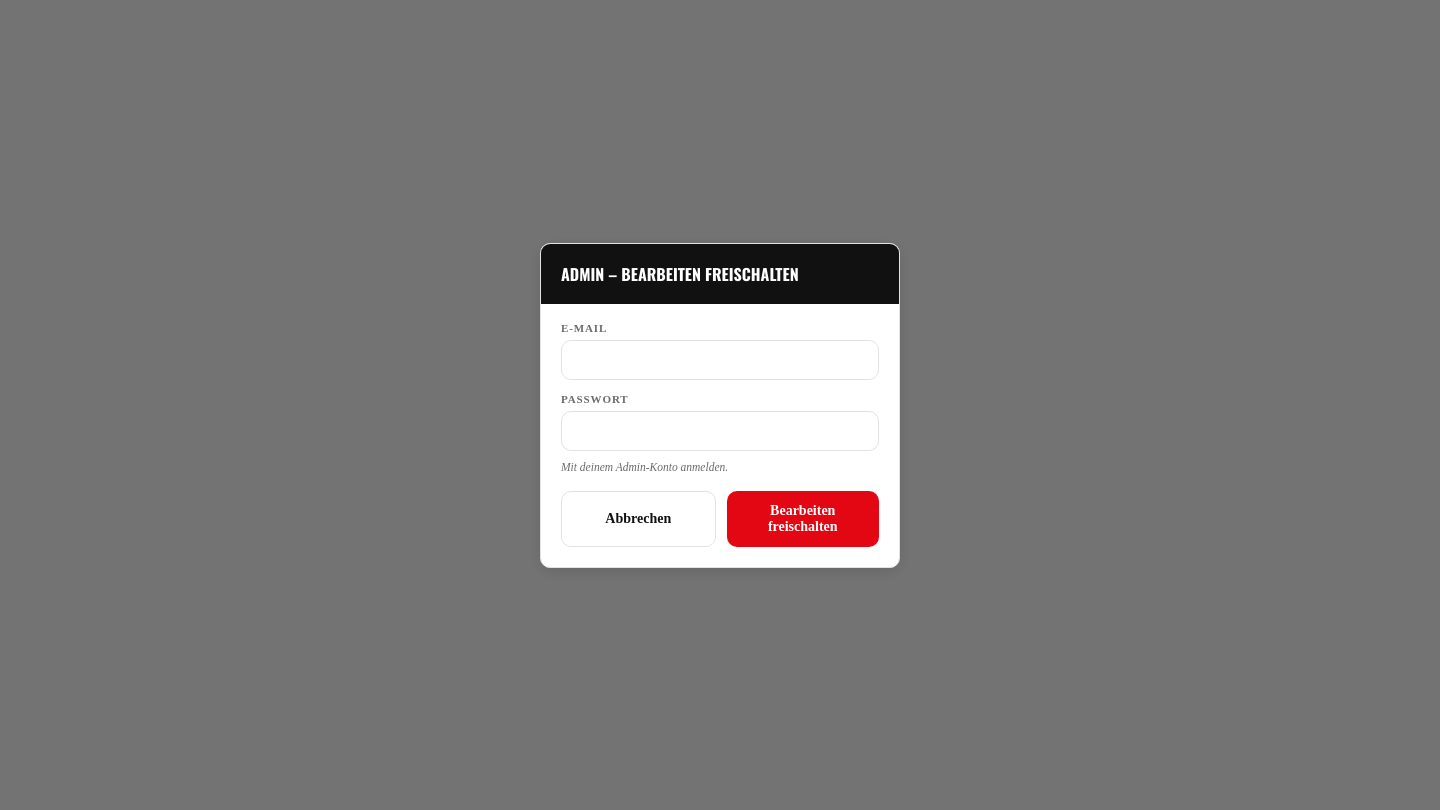
it: LoginModal › errors › shows one message for a wrong password and an unknown address
This screenshot has width=1440, height=810.
Type "a@example.com" into the field labelled "E-Mail" at coordinates (720, 360), box [561, 340, 879, 380]
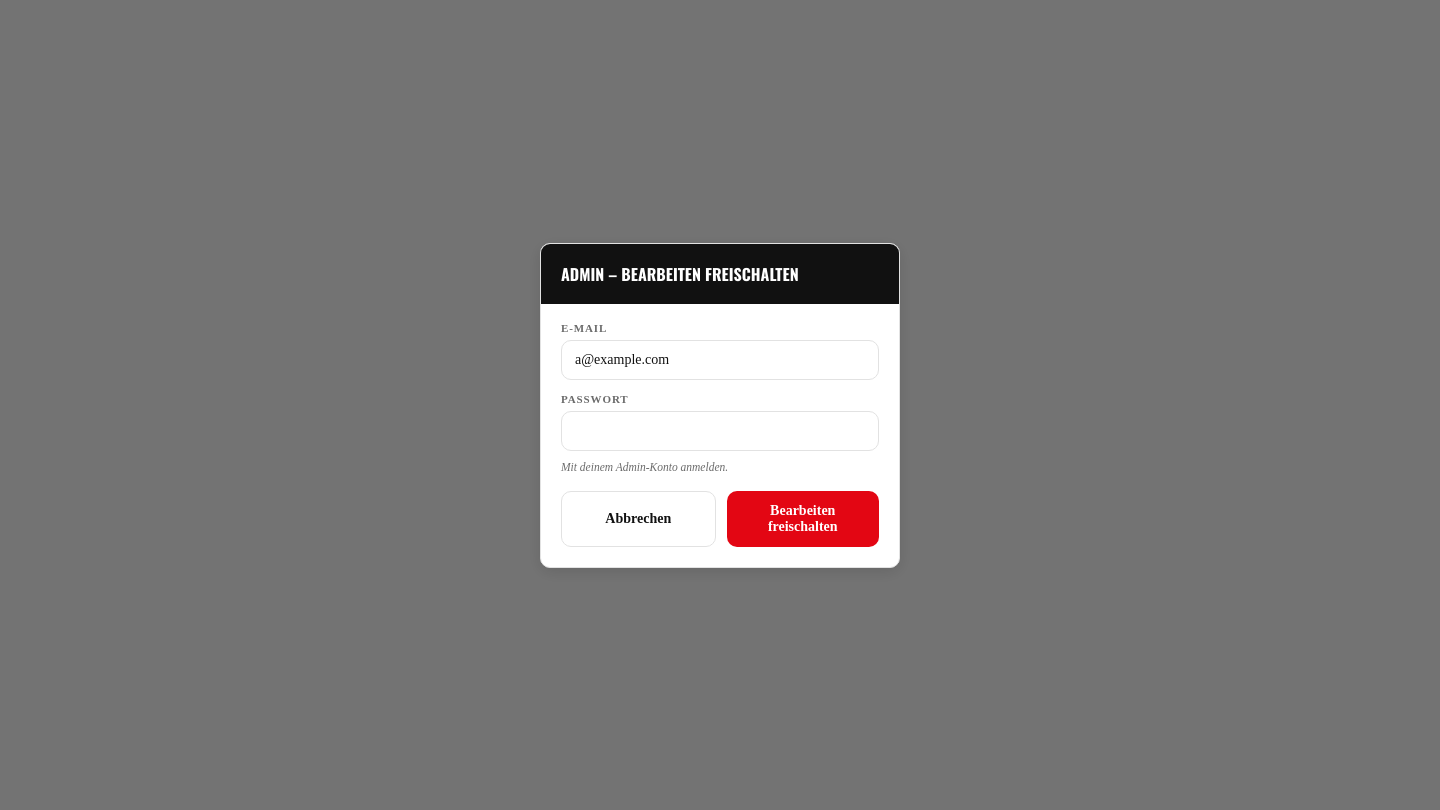
Type "some-password" into the password field labelled "Passwort" at coordinates (720, 430), box [561, 410, 879, 450]
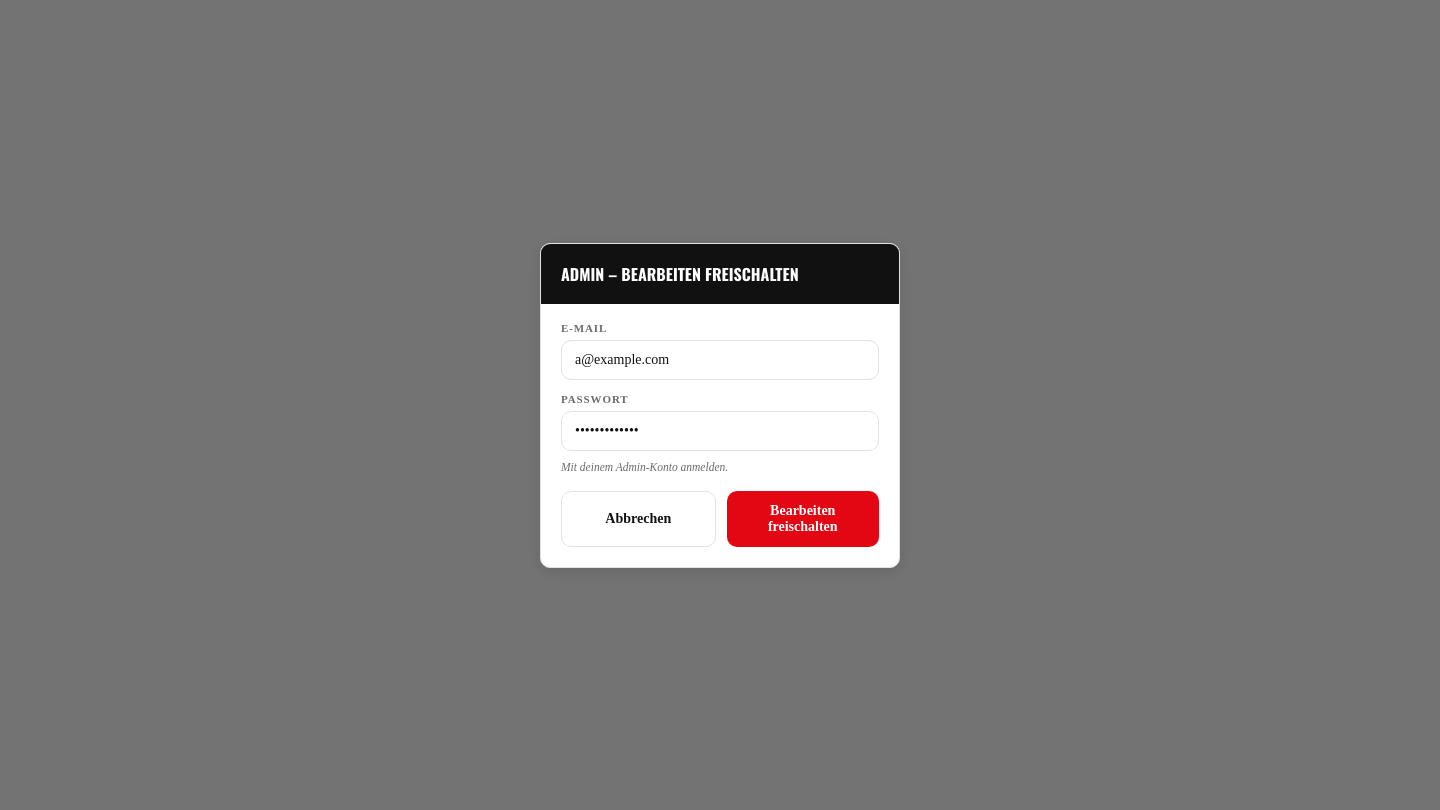
Click the button "Bearbeiten freischalten" at coordinates (803, 518), box [726, 490, 879, 546]
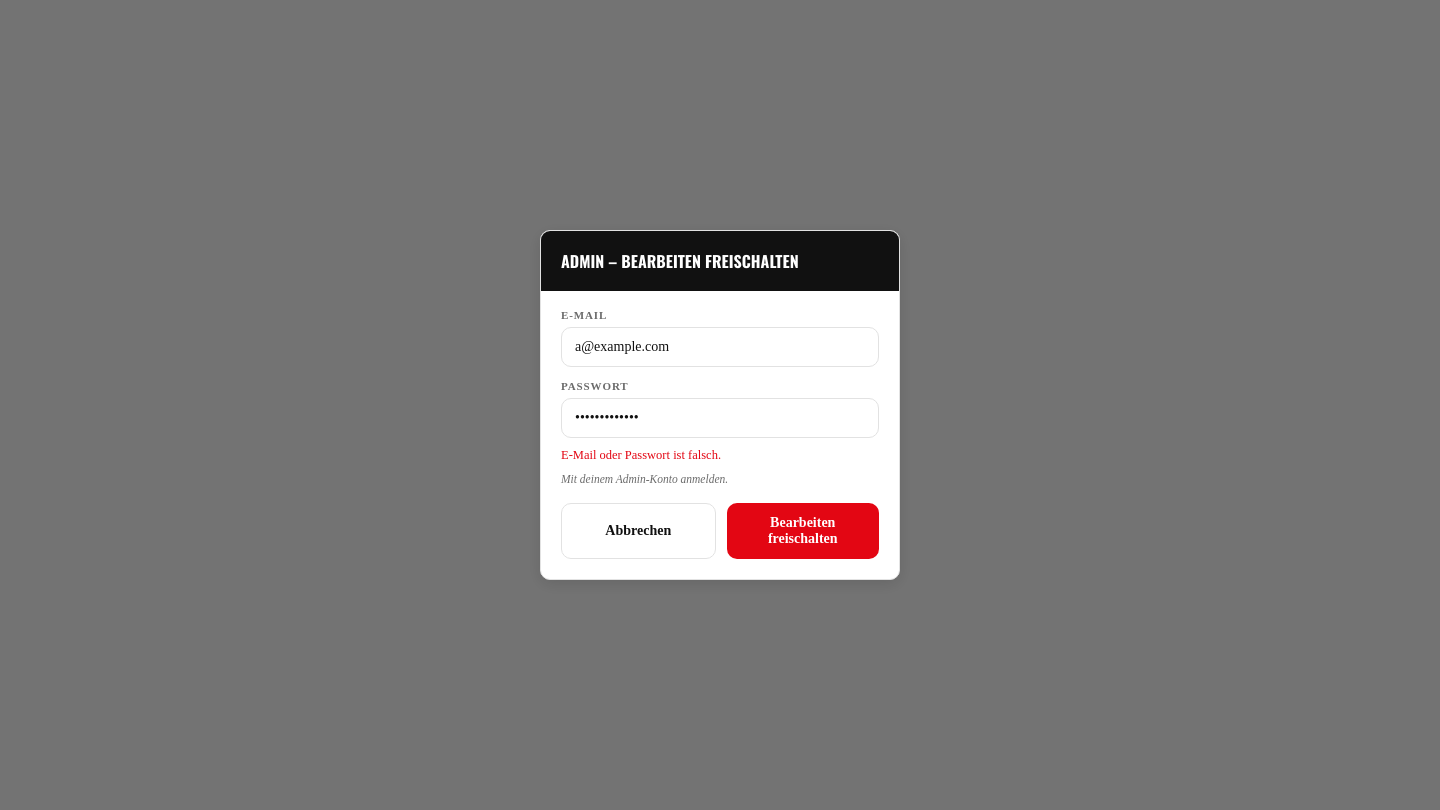
Expected: the text "E-Mail oder Passwort ist falsch." is shown, [561, 448, 721, 462]
